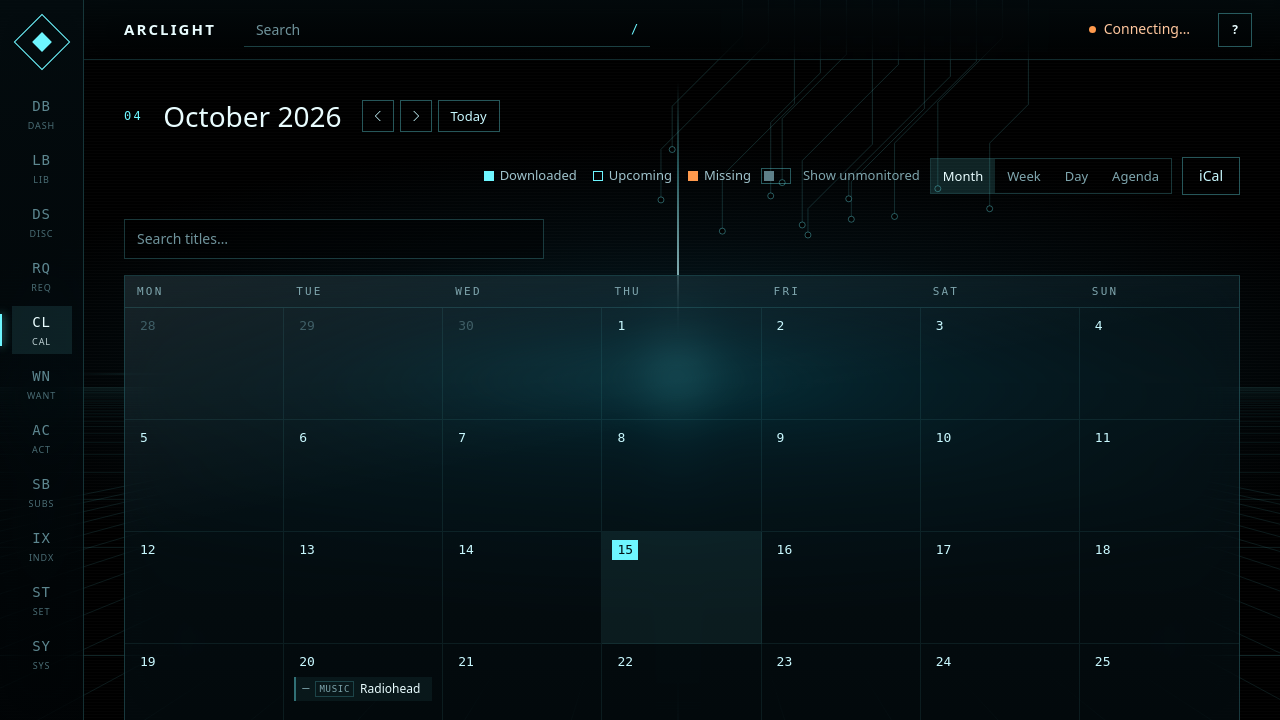
Test: calendar albums › renders album release dates with a music chip in the month grid, popover and agenda
Expected: the text "Music" is shown, [315, 681, 354, 697]
Step 1. Click the button with aria-label "Music: Radiohead, New Album" → coordinates (363, 689), box [294, 677, 432, 701]
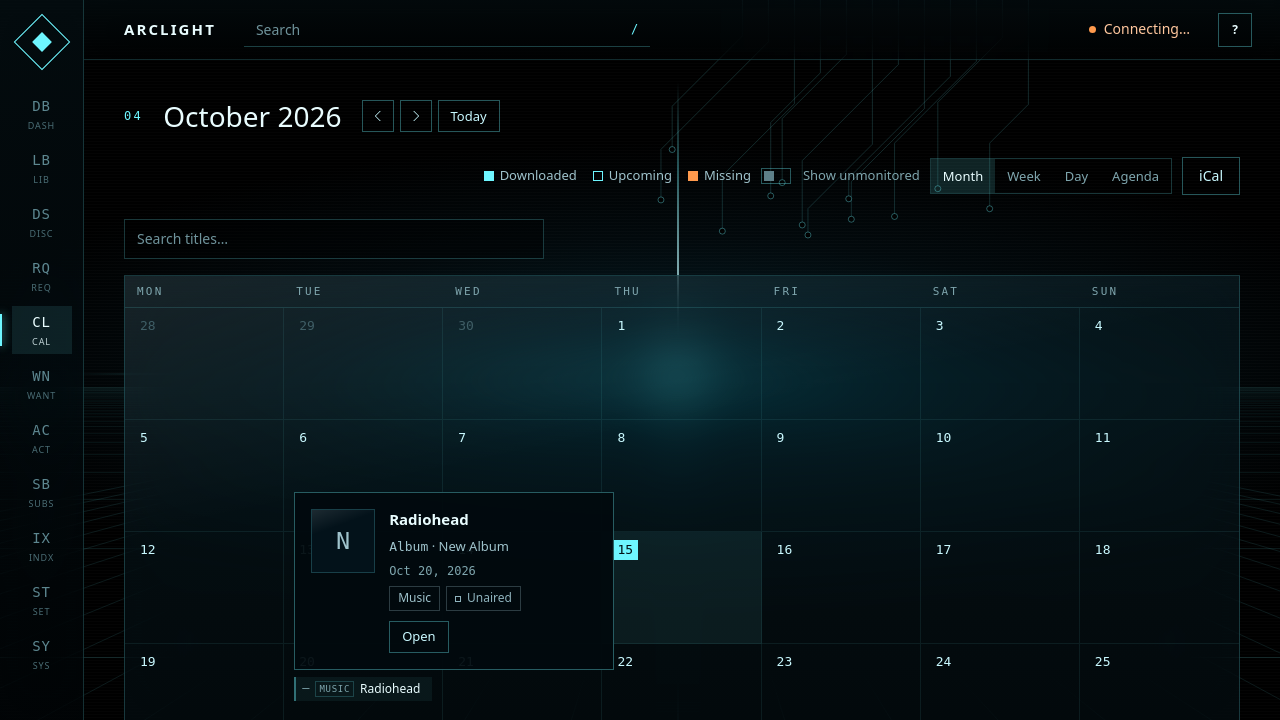
Now the text "Music" next to "Unaired" is shown, box [398, 589, 431, 606]
Step 2. Press Escape in the dialog, box [294, 492, 614, 670]
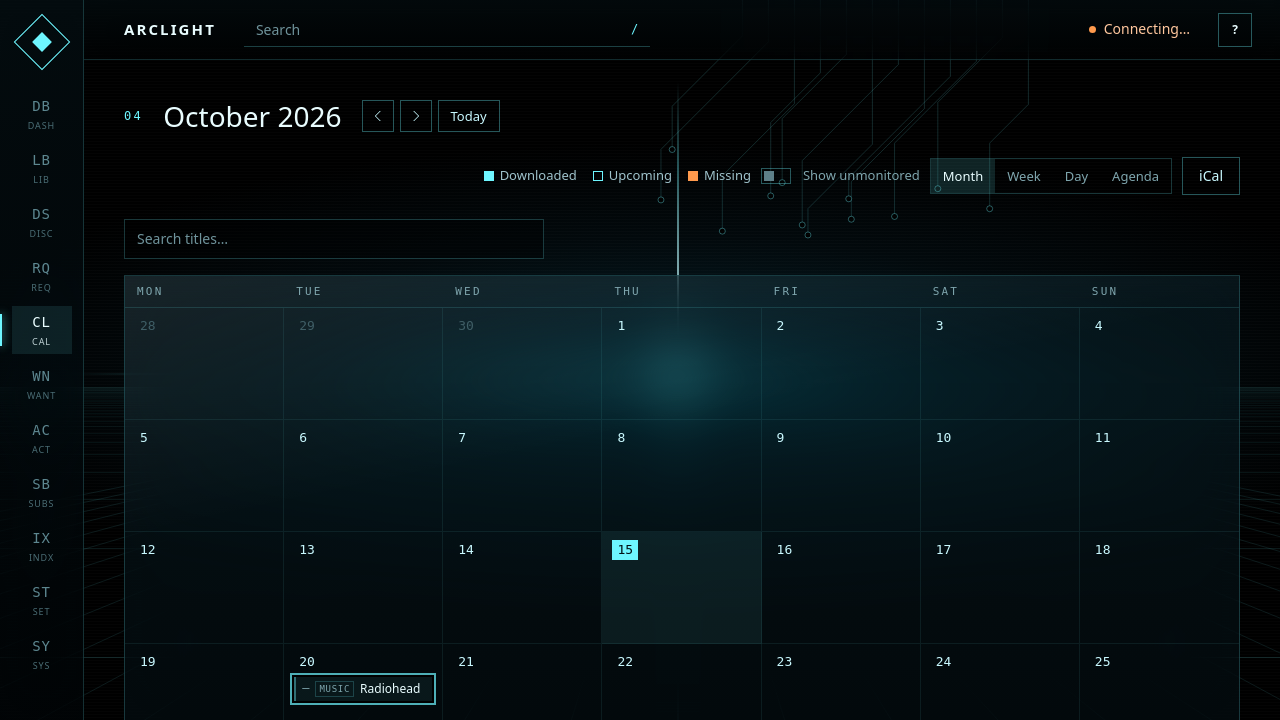
Step 3. Click the button "Agenda" → coordinates (1136, 176), box [1100, 159, 1171, 193]
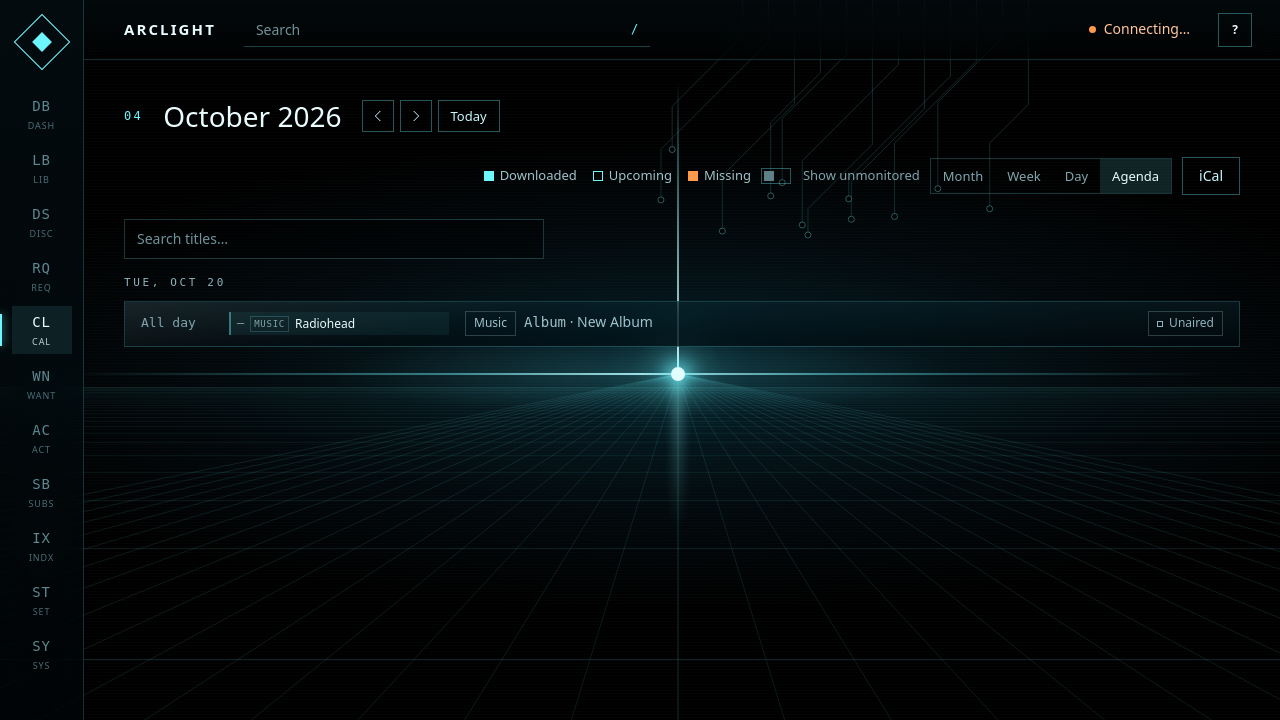
Now the text "Music" in the row of "· New Album" is shown, box [474, 314, 507, 331]
